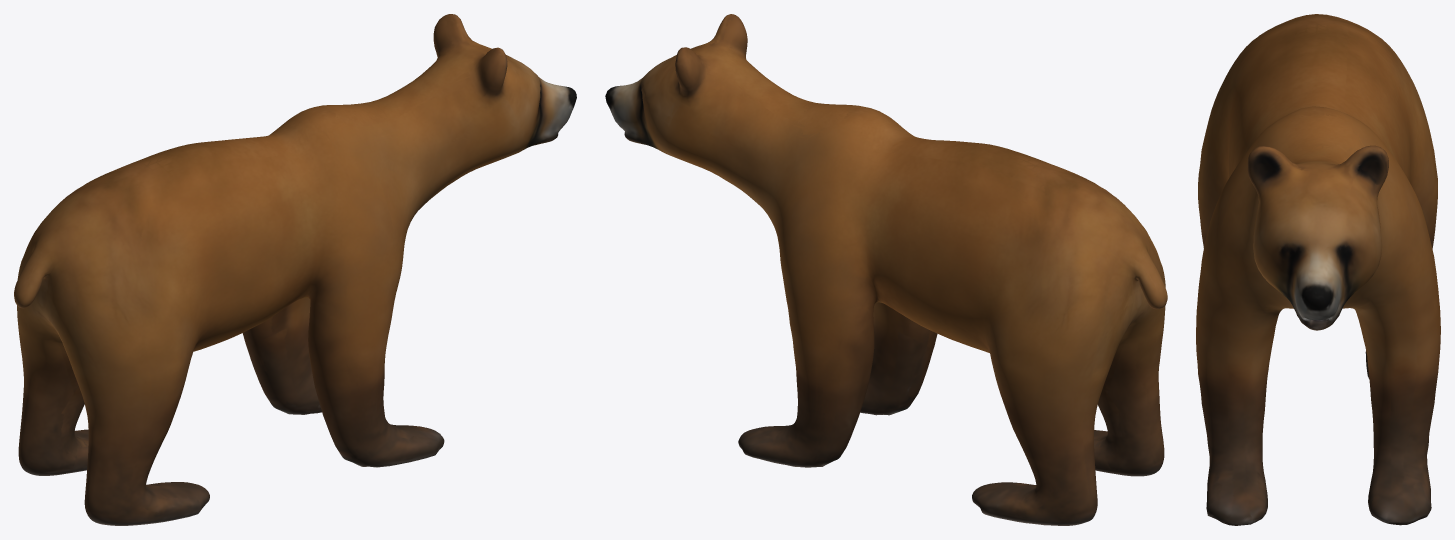
3 views of the same model, side by side, from view 1: azimuth 30°, elevation 25°; view 2: azimuth 150°, elevation 25°; view 3: azimuth 270°, elevation 25° (orthographic). The views are drawn at different scales.
Parts seen in each view (by area): view 1: Mesh; view 2: Mesh; view 3: Mesh.
Boxes of the visible parts, <box> form: Mesh: <box>14,14,576,525</box>; Mesh: <box>605,14,1167,525</box>; Mesh: <box>1196,14,1440,525</box>.
Size of the model in its own units: 0.9339 by 0.5902 by 0.3103.
1 material, 1 textured.
